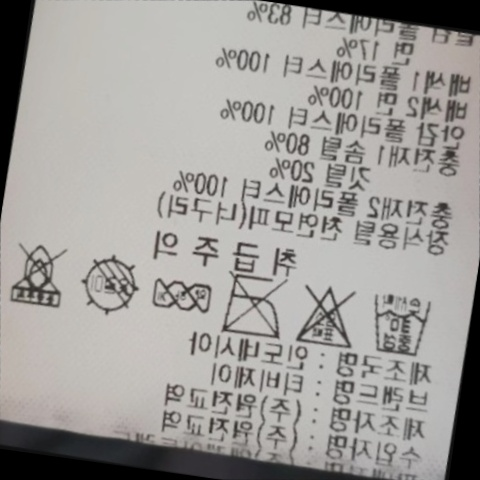DN_iron: (208, 260, 301, 354)
hand_wash: (351, 277, 443, 371)
line_dry_in_shade: (65, 241, 150, 328)
non_chlorine_bleach: (278, 262, 373, 362)
wring: (137, 261, 221, 327)
